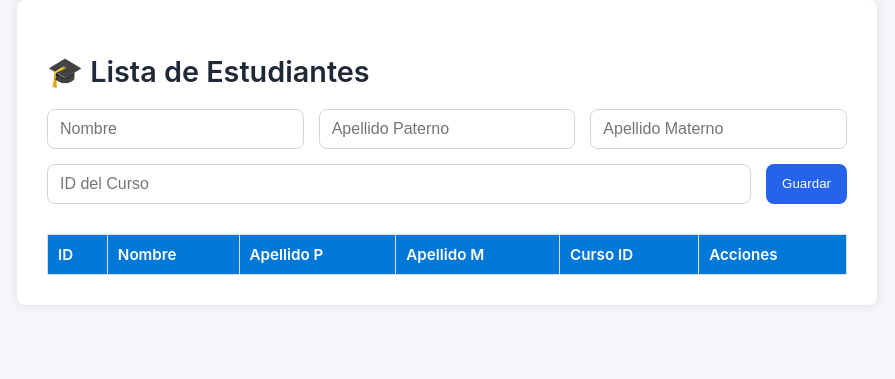
Componente Estudiantes › guarda un nuevo estudiante (POST) al enviar el formulario
This screenshot has width=895, height=379.
// llenar formulario
Type "Ana" into the field with placeholder "Nombre" at [175, 129], box [47, 109, 304, 149]
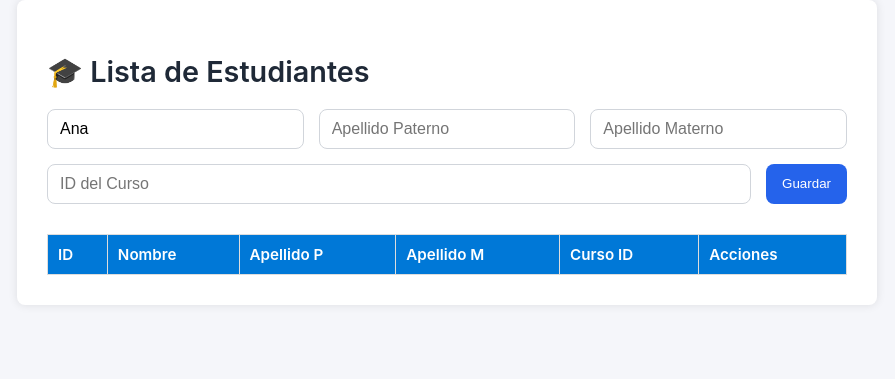
Type "García" into the field with placeholder "Apellido Paterno" at [447, 129], box [319, 109, 575, 149]
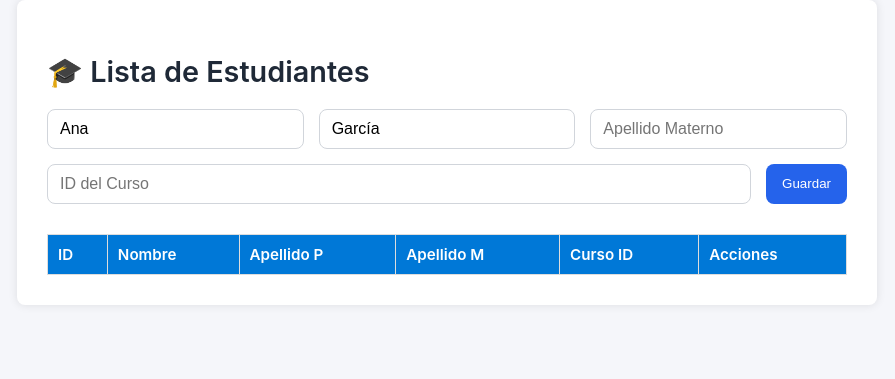
Type "Ruiz" into the field with placeholder "Apellido Materno" at [719, 129], box [590, 109, 847, 149]
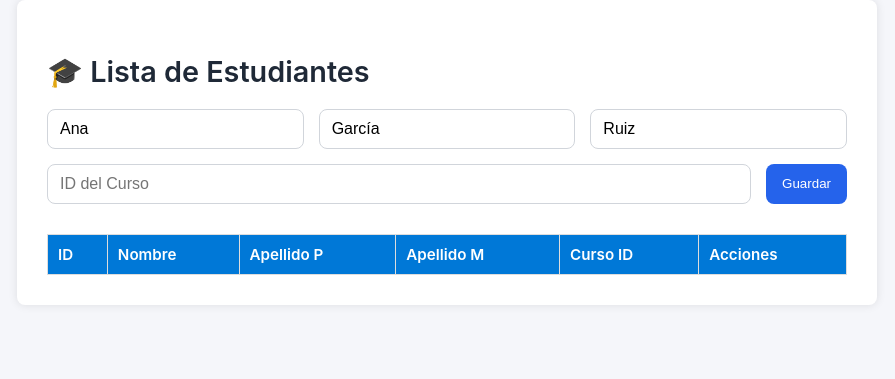
Type "5" into the number field with placeholder "ID del Curso" at [399, 184], box [47, 164, 751, 204]
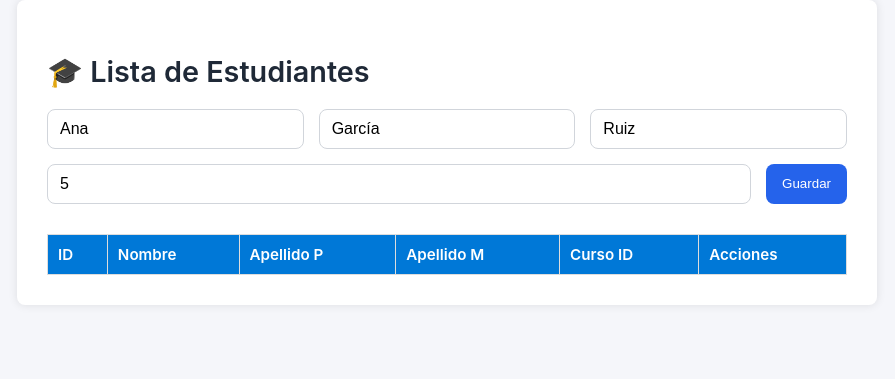
Click the button "Guardar" at [807, 184], box [766, 164, 847, 204]
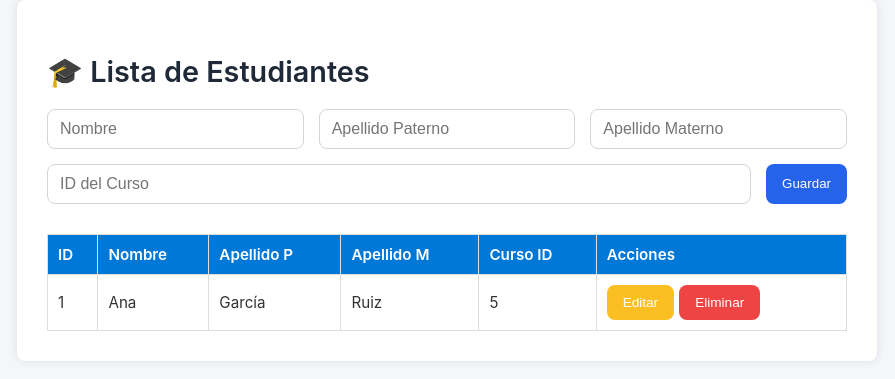
Check: the text "Ana" is shown, box [98, 274, 209, 330]
Check: the text "García" is shown, box [209, 274, 341, 330]
Check: the text "Ruiz" is shown, box [341, 274, 479, 330]
